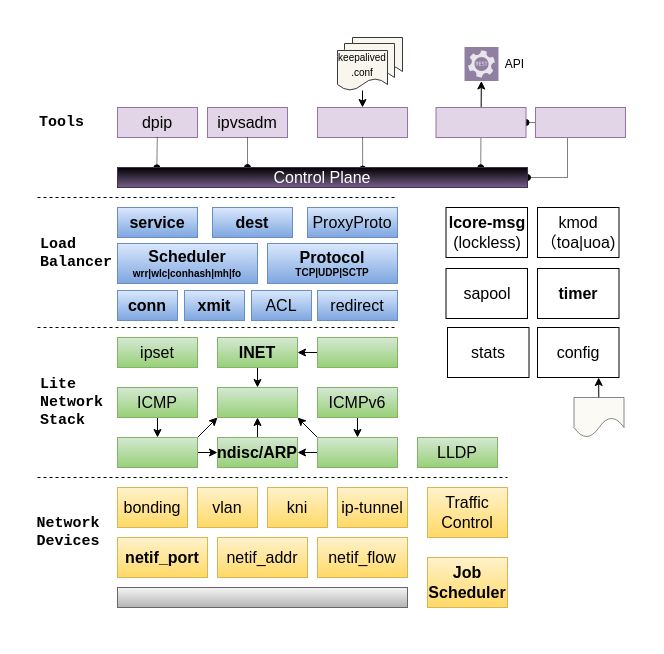
Some shapes in this 664 by 654 pixel diagram are drawn without their labels. Each missing label, with the centre of its shape:
DPDK PMD Driver: (262,597)
dpvs-agent: (480,122)
dpvs.conf: (598,417)
healthcheck: (580,122)
inetaddr: (357,352)
IPv4: (157,452)
IPv6: (357,452)
keepalived: (362,122)
Routing: (257,402)
